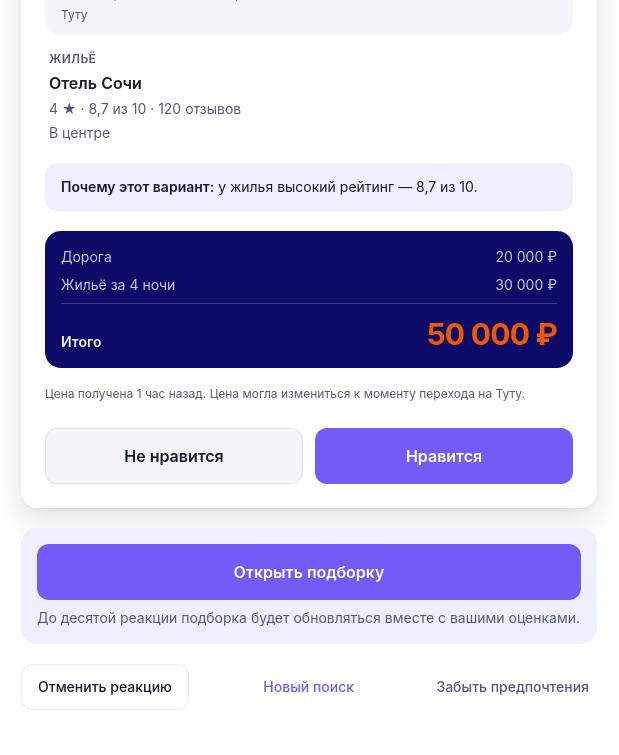
Scenario: swipe feed › shows the shortlist failure invalid_session
(page scrolled)
What coordinates should you click on to do the following:
click the button "Открыть подборку"
I would click on:
 (309, 572)
Its box is [37,544,581,600].
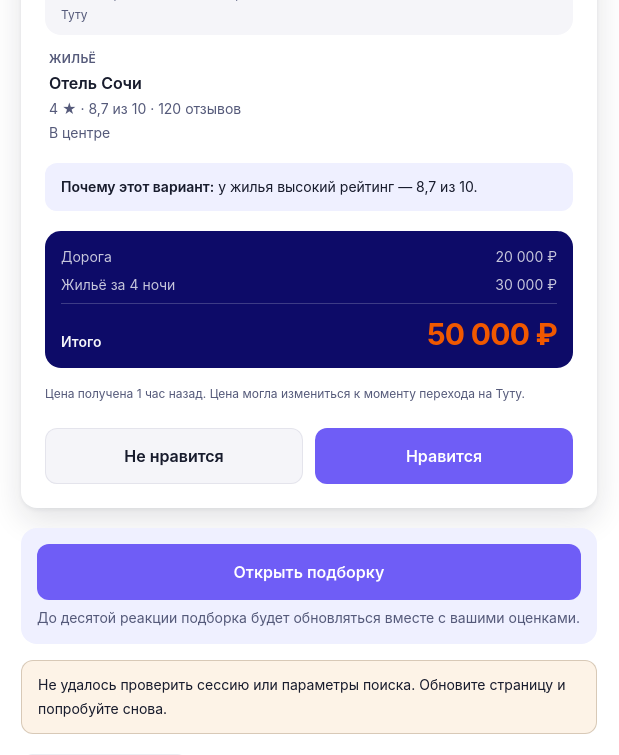
Expected: the message shows "Не удалось проверить сессию", [38,676,565,717]
